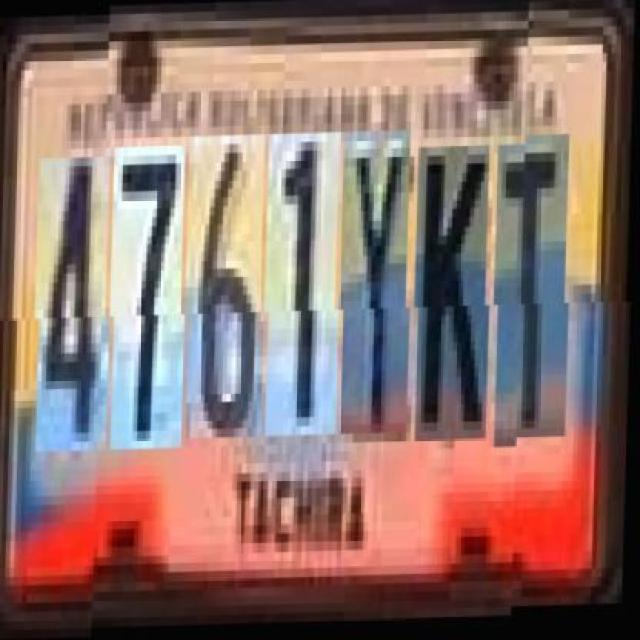1: (268, 134, 344, 438)
4: (38, 148, 116, 444)
6: (188, 135, 270, 440)
7: (113, 146, 192, 451)
k: (418, 148, 494, 443)
t: (497, 146, 575, 451)
y: (342, 132, 416, 437)
